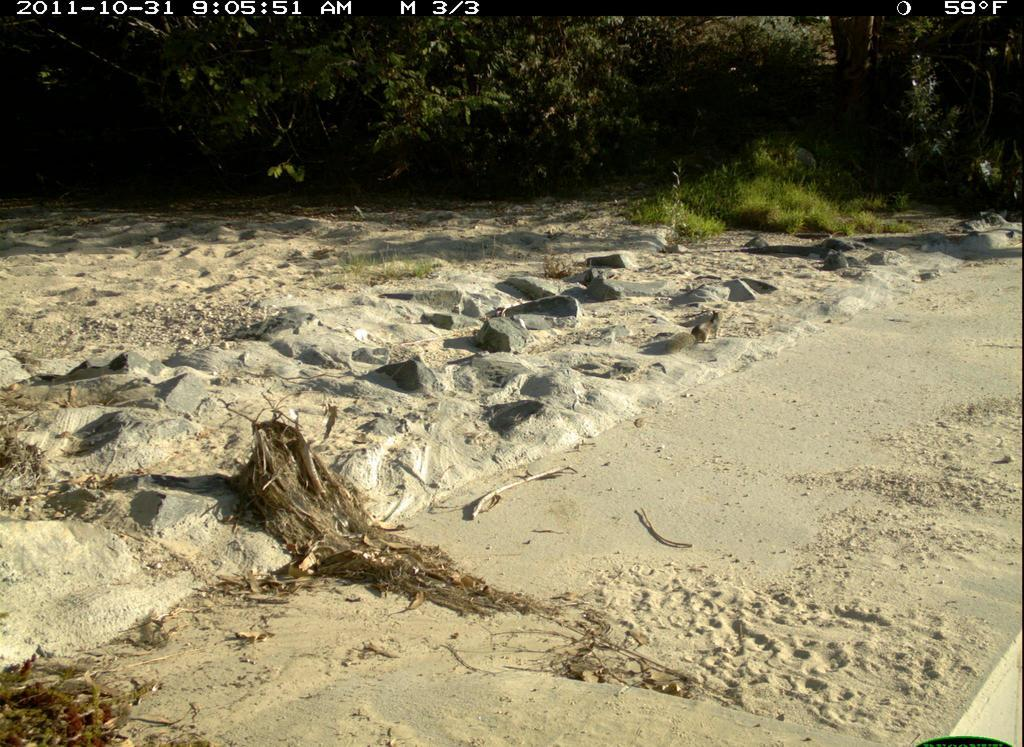squirrel: (653, 301, 740, 350)
